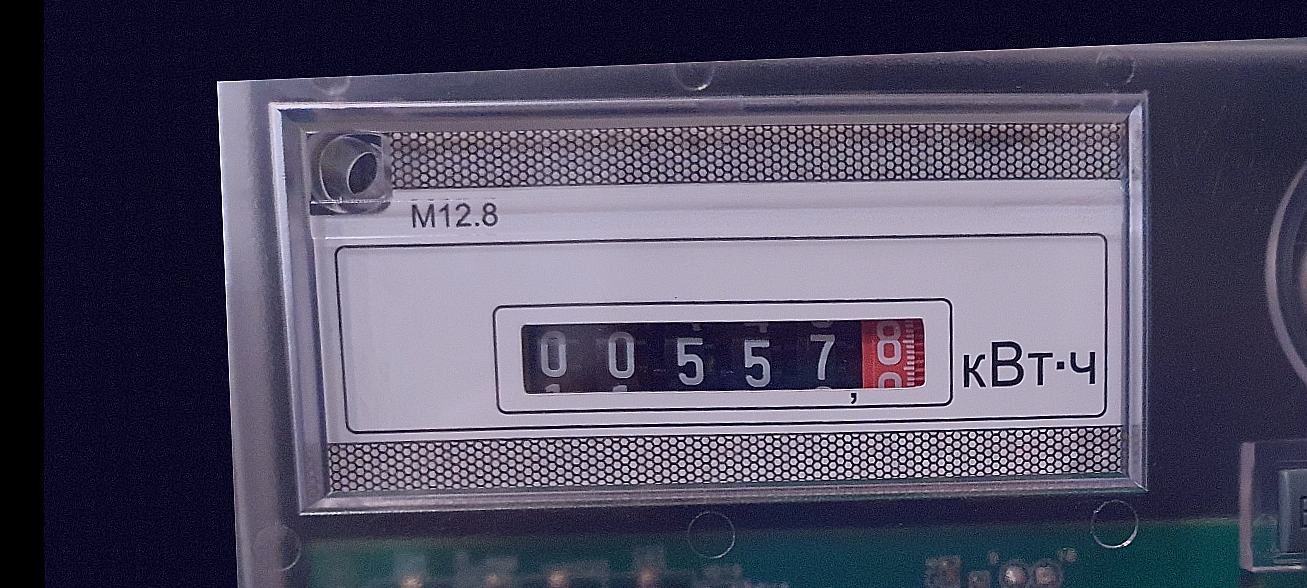0: (535, 324, 572, 382), (603, 327, 639, 381)
5: (738, 331, 778, 391), (672, 331, 709, 389)
7: (804, 328, 839, 384)
8: (874, 318, 904, 368)
screen: (488, 279, 961, 429)
